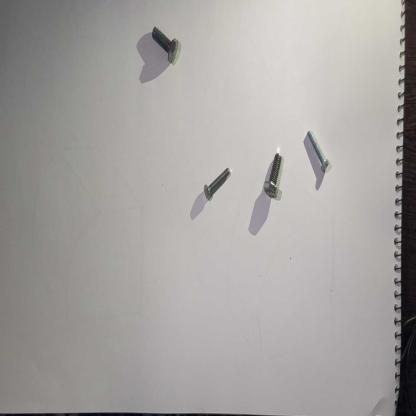Bolts: (148, 20, 183, 73), (303, 123, 332, 181), (261, 151, 287, 204), (202, 163, 233, 205)
